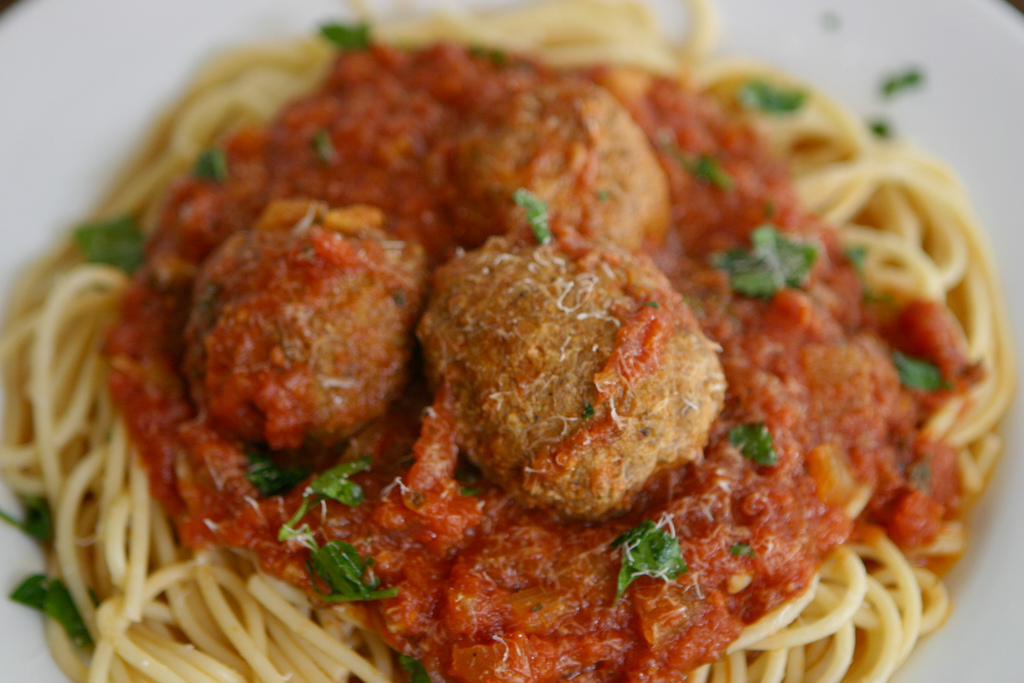meatballs: (429, 256, 752, 495), (206, 195, 404, 387)
plain spaghetti: (73, 495, 324, 671)
